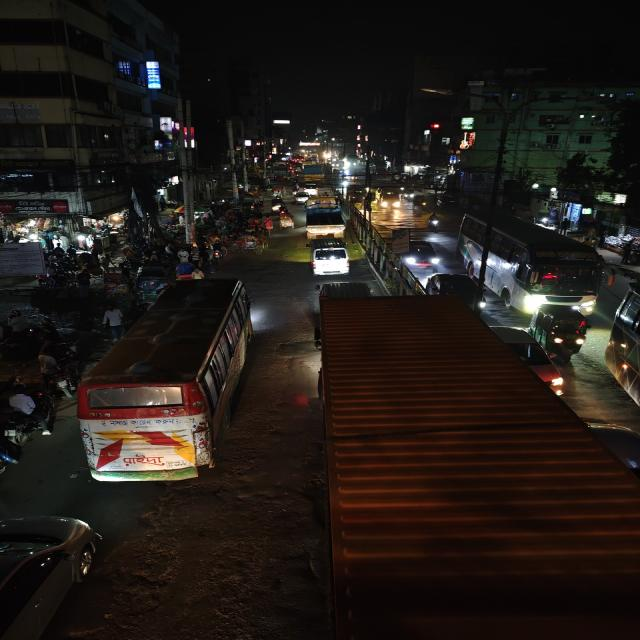bus: (77, 274, 255, 484), (458, 208, 604, 314), (606, 263, 640, 411)
car: (0, 512, 103, 639), (514, 324, 565, 396), (426, 271, 487, 312), (305, 233, 352, 277), (397, 237, 443, 271), (291, 192, 310, 205)
cng: (532, 304, 591, 355)
motorcycle: (0, 391, 54, 443), (425, 212, 444, 232)
pedestrian: (101, 304, 126, 342), (35, 349, 64, 381), (263, 215, 274, 235)
pickup_van: (377, 189, 403, 210)
rickshaw: (276, 214, 298, 232)
truck: (307, 292, 638, 596), (301, 197, 348, 237)
